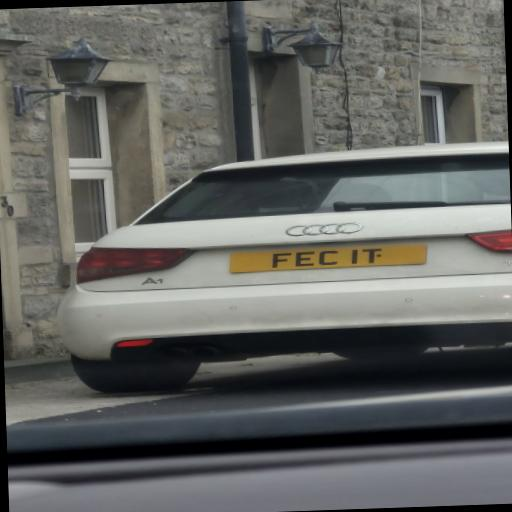numberplates: (230, 245, 427, 272)
